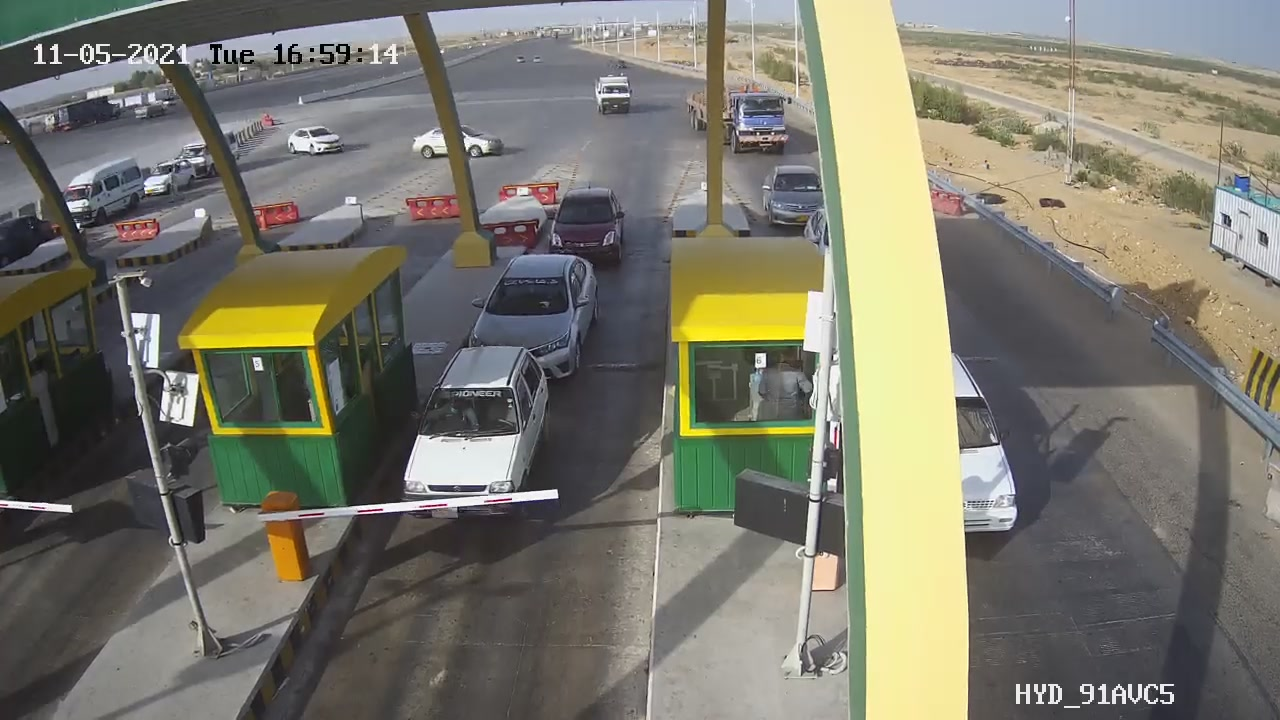F1: (384, 331, 574, 528), (457, 237, 610, 390), (532, 179, 642, 277)
